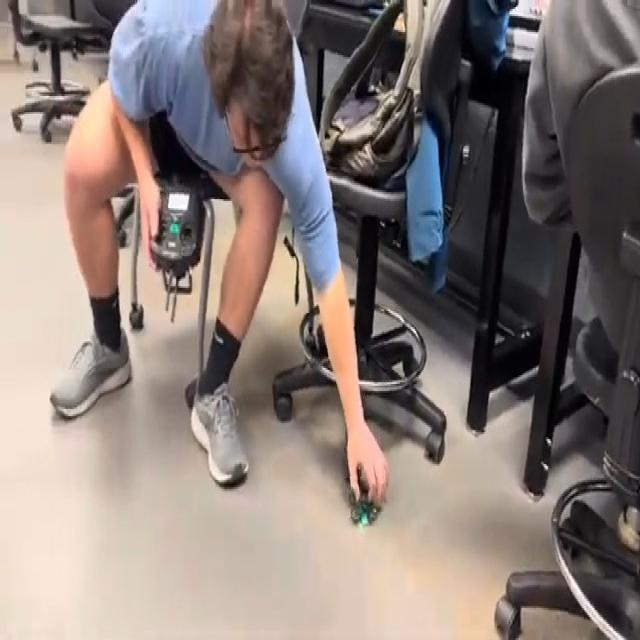drone: (338, 472, 394, 529)
